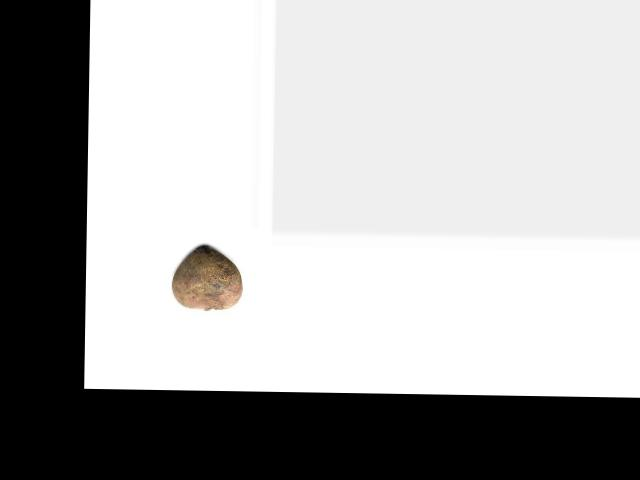beet: (171, 244, 243, 310)
